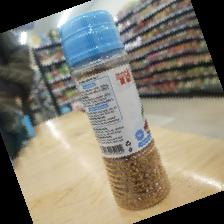TayNinh_blue: (58, 10, 172, 212)
